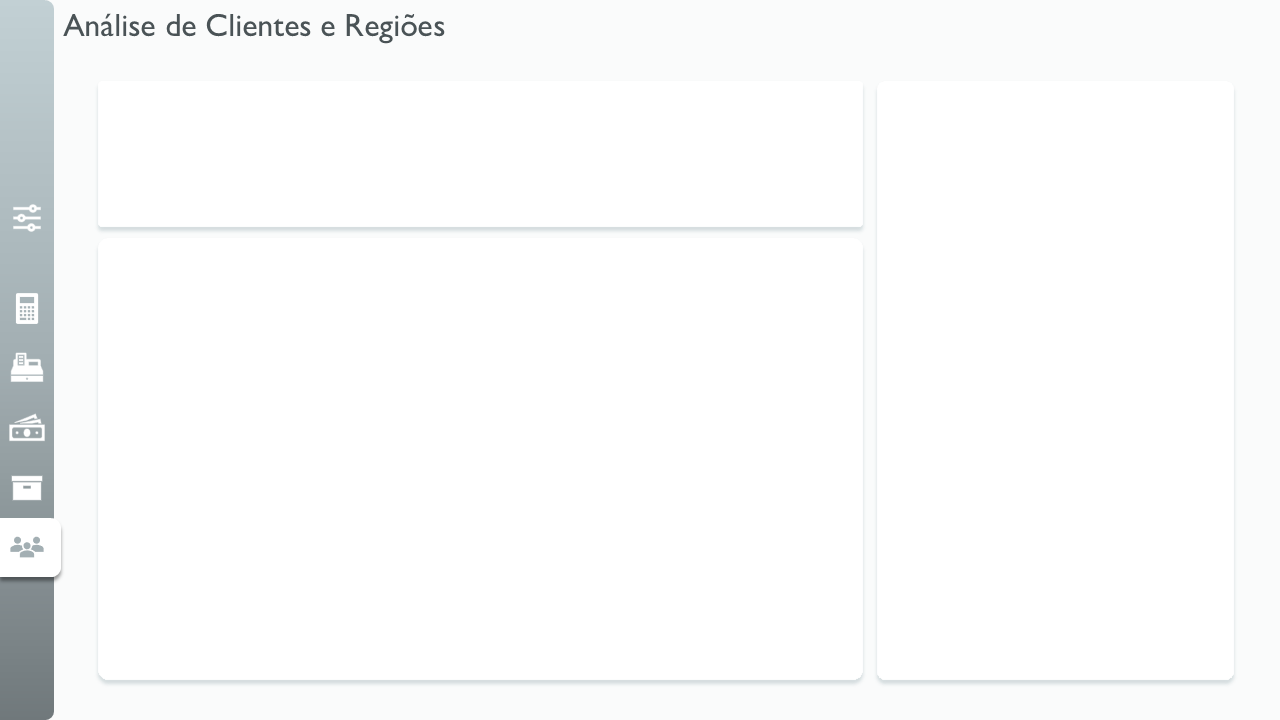

The page's visual inventory and layout, read from the dashboard file:
{"tool":"powerbi","page":{"name":"Clientes","canvas":[1920,1080],"ordinal":4},"visuals":[{"type":"actionButton","box":[0,286,88,90],"z":1000},{"type":"pageNavigator","box":[0,408,88,458],"z":1501}]}

Visuals, with their boxes on the page's 1920x1080 design canvas (x1, y1, x2, y2). These are canvas units, not pixel positions in the 1280x720 screenshot, which may show the page scaled, cropped or inside an application window:
actionButton: (0, 286, 88, 376)
pageNavigator: (0, 408, 88, 866)
